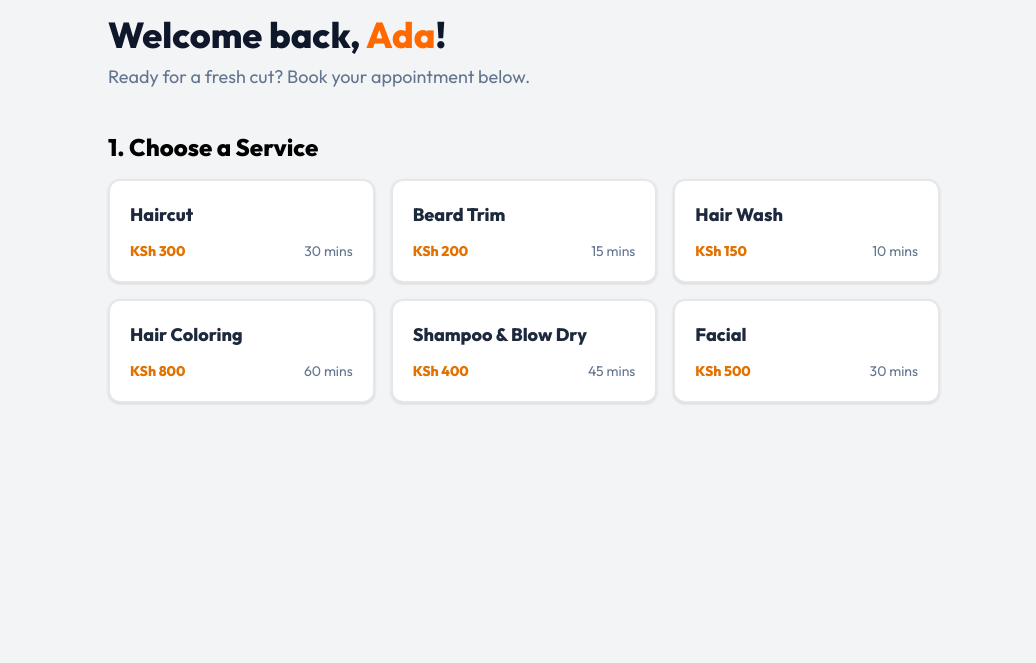
Test case: Home page › books an appointment and refreshes the available slots
Click the heading "Haircut" at (162, 214), box [130,203,193,226]
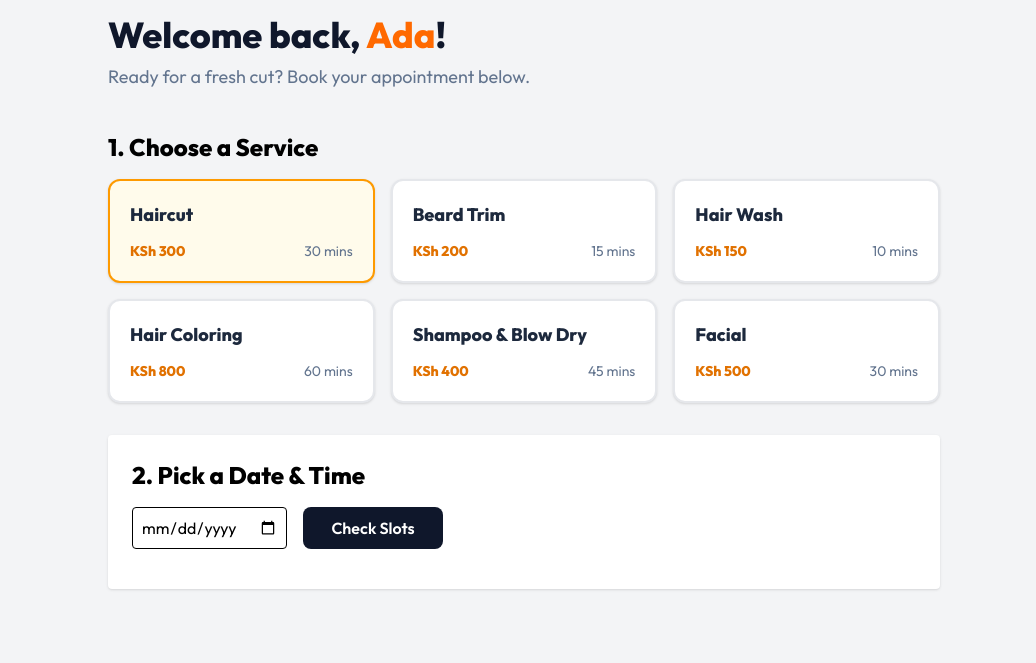
Type "2026-12-02" into the date field at (210, 528), box [132,507,287,549]
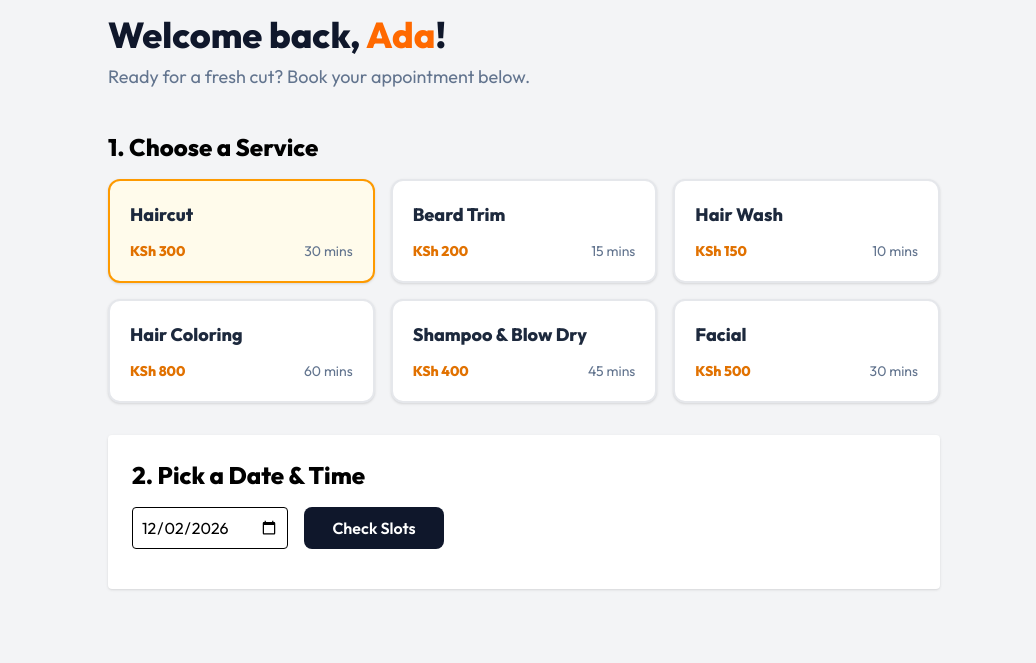
Click the button "Check Slots" at (374, 528), box [304,507,444,549]
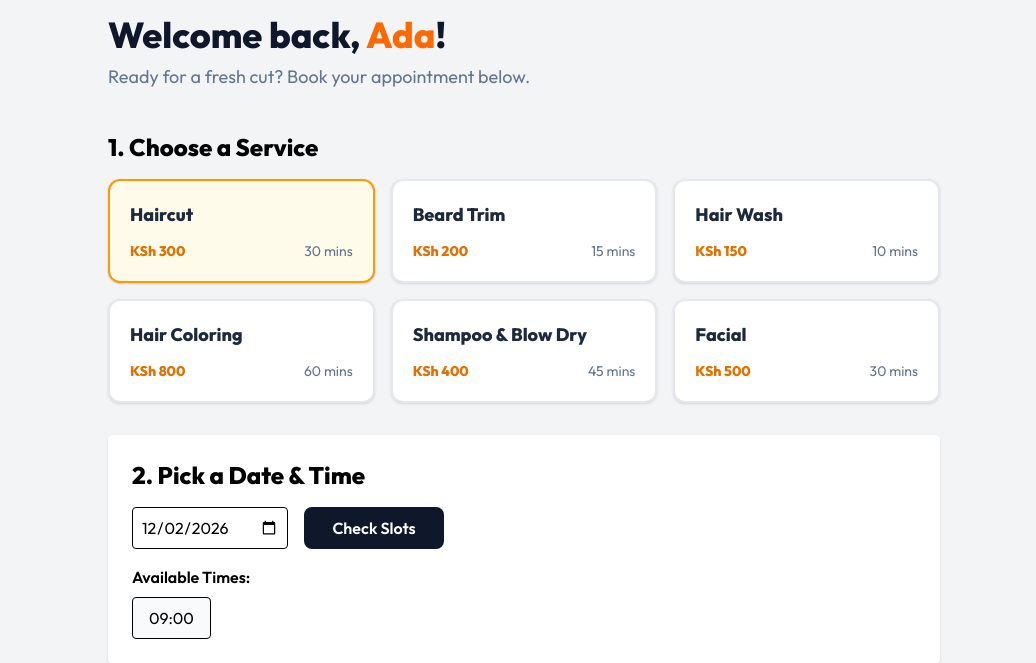
Click the button "09:00" at (171, 618), box [132,597,211,639]
(page scrolled)
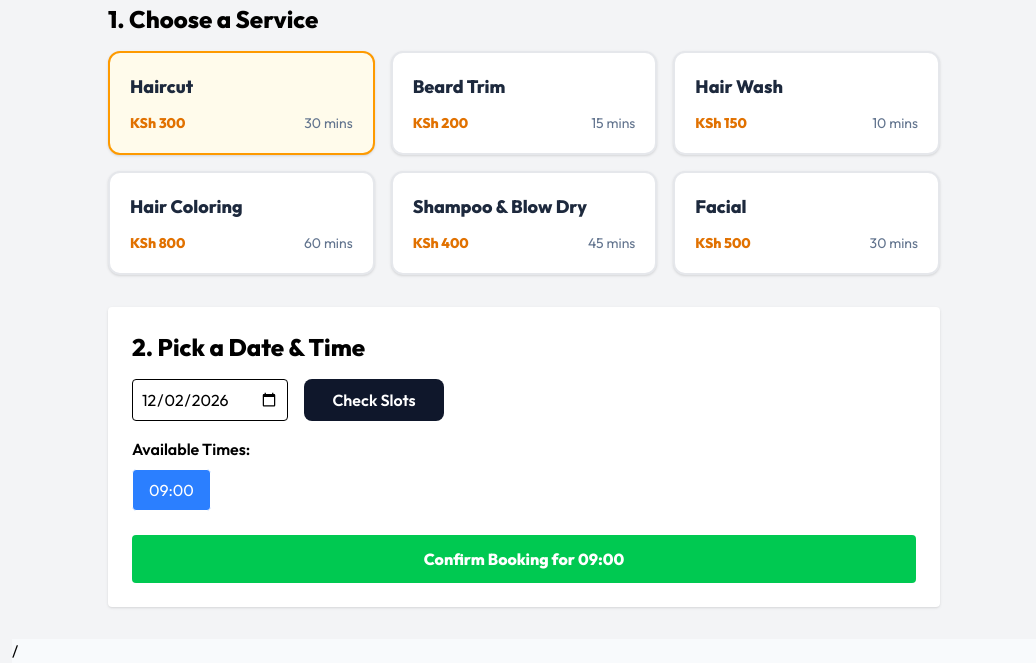
Click the button "Confirm Booking for 09:00" at (524, 559), box [132,535,916,583]
(page scrolled)
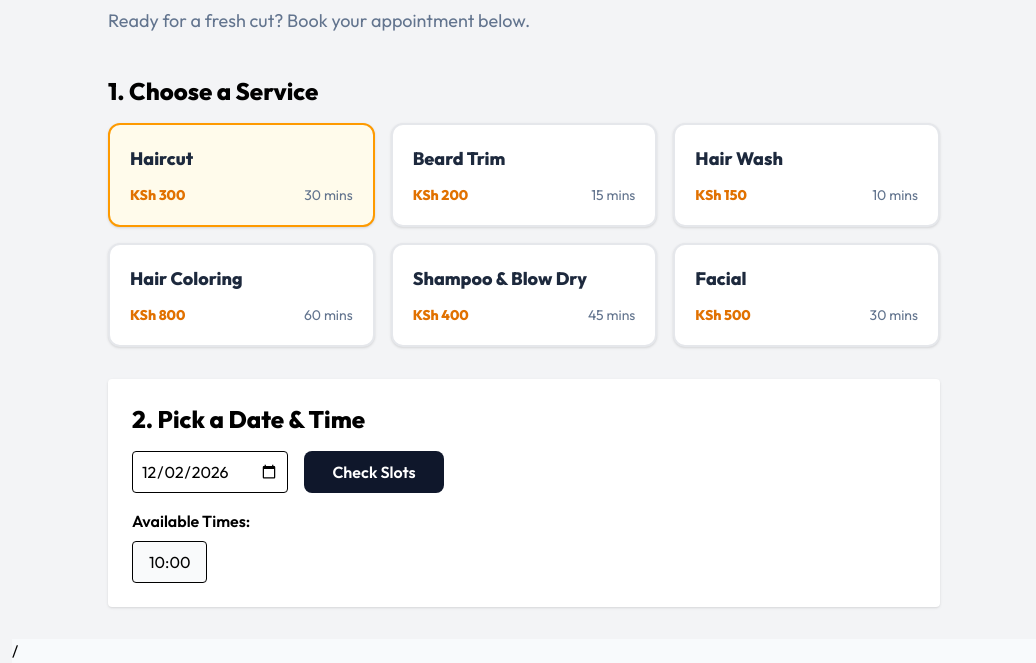
Check: the button "10:00" is shown, box [132,541,207,583]
